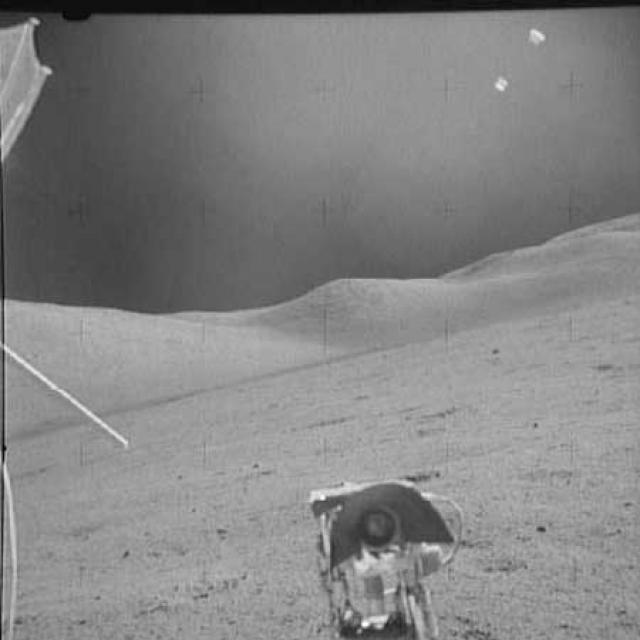artifact: (302, 474, 469, 638), (6, 336, 135, 462), (0, 9, 62, 172), (1, 462, 28, 639)
crater: (179, 467, 286, 489), (282, 409, 366, 436), (384, 464, 456, 488)
